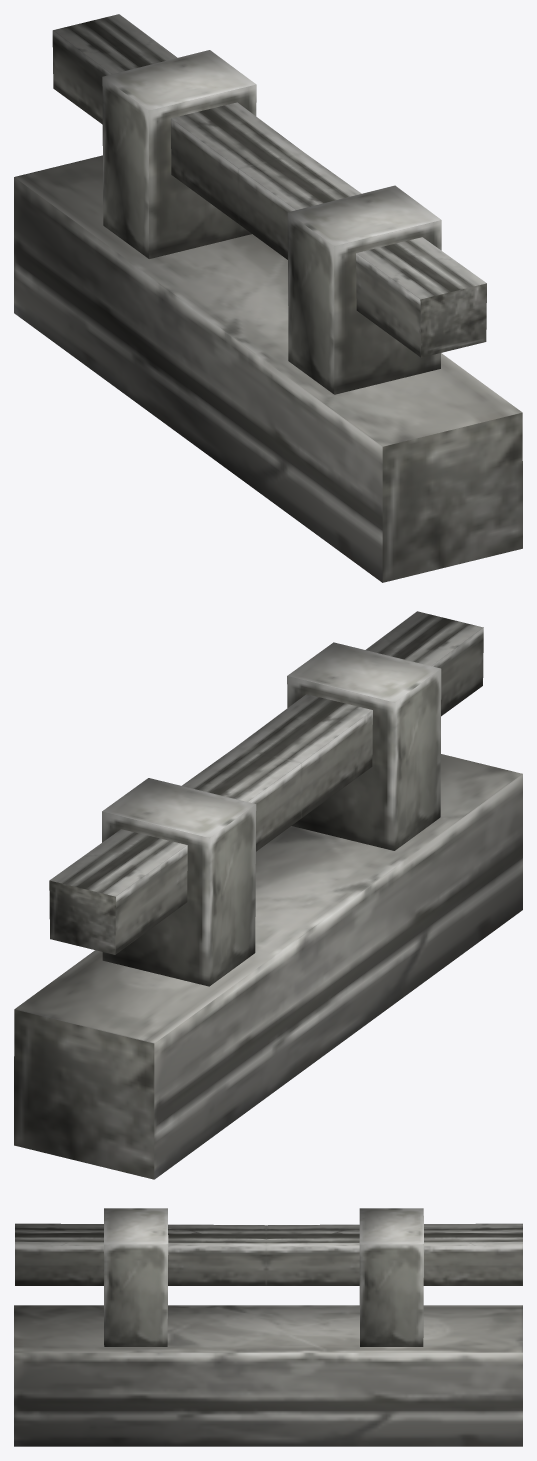
Rendered from unity_dungeon_rail02.FBX.
3 views of the same model, one above another, from view 1: azimuth 30°, elevation 25°; view 2: azimuth 150°, elevation 25°; view 3: azimuth 270°, elevation 25° (orthographic). The views are drawn at different scales.
Visible parts, largest first — view 1: unity_dungeon_rail02; view 2: unity_dungeon_rail02; view 3: unity_dungeon_rail02.
Boxes of the visible parts, left/top/right/bottom form: unity_dungeon_rail02: left=14, top=14, right=522, bottom=582; unity_dungeon_rail02: left=14, top=611, right=522, bottom=1179; unity_dungeon_rail02: left=14, top=1208, right=522, bottom=1446.
Bounding box in the file's own units: 0.8894 × 1.73 × 4.04.
